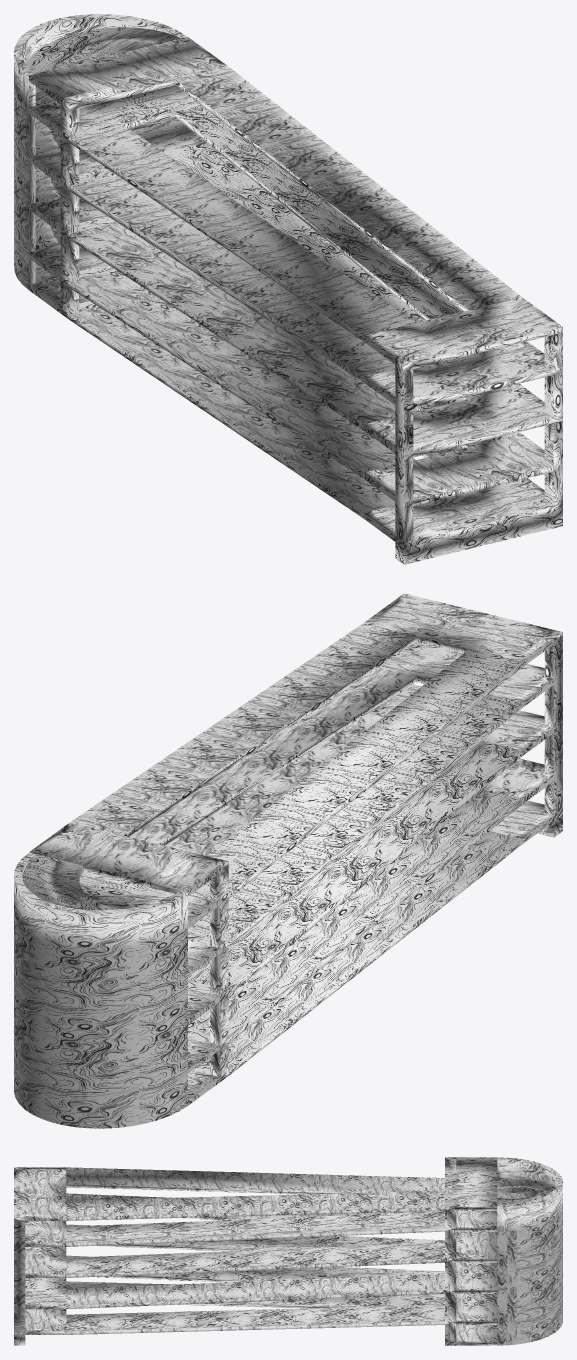
File: perlinbuildingwhite.glb
The picture shows the model from 3 angles, top to bottom: view 1: azimuth 30°, elevation 25°; view 2: azimuth 150°, elevation 25°; view 3: azimuth 270°, elevation 25°; orthographic projection. The views are drawn at different scales.
Visible parts, largest first — view 1: parking_garage_OBJ.000; view 2: parking_garage_OBJ.000; view 3: parking_garage_OBJ.000.
Boxes of the visible parts, box(x1,y1,x2,y2) form: parking_garage_OBJ.000: box(14, 14, 562, 564); parking_garage_OBJ.000: box(14, 593, 562, 1128); parking_garage_OBJ.000: box(14, 1157, 562, 1345).
Size of what is drawn, in the model's own units: 1.01 by 1.3 by 4.69.
Materials: 1 (1 with a texture image).
